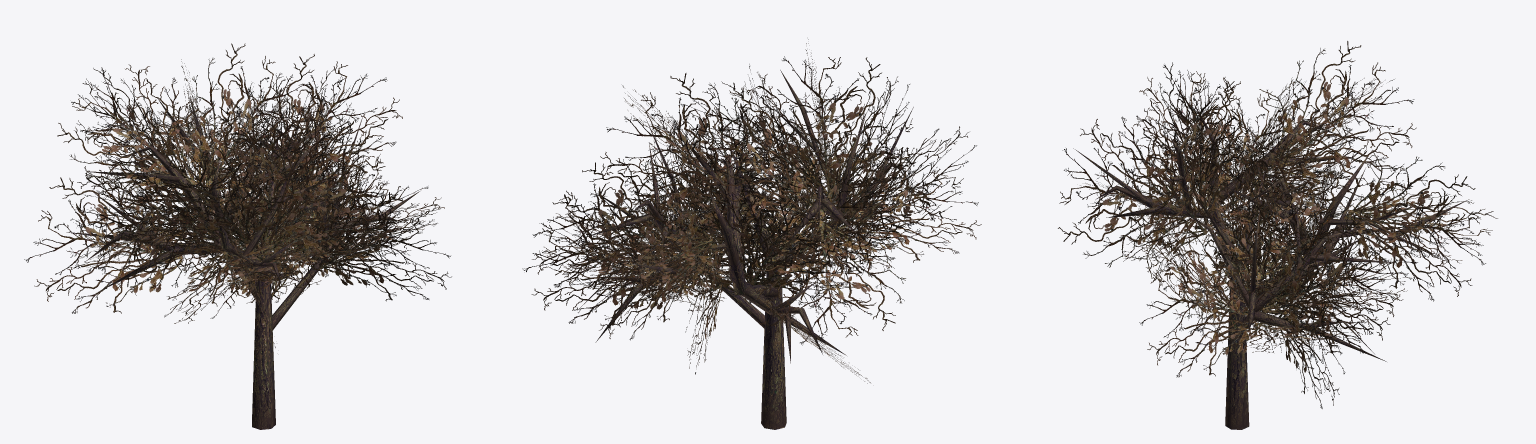
The model's file is plant_tree_01.fbx.
3 renders of one model, left to right at view 1: azimuth 30°, elevation 25°; view 2: azimuth 150°, elevation 25°; view 3: azimuth 270°, elevation 25°, orthographic. The views are drawn at different scales.
Parts seen in each view (by area): view 1: tree_01; view 2: tree_01; view 3: tree_01.
Boxes of the visible parts, box(x1,y1,x2,y2) form: tree_01: box(24, 43, 451, 429); tree_01: box(522, 39, 981, 429); tree_01: box(1058, 41, 1497, 429).
Size of the model in its own units: 1385 by 1249 by 1485.
